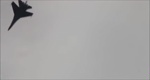maybay_muctieu: (5, 1, 33, 32)
